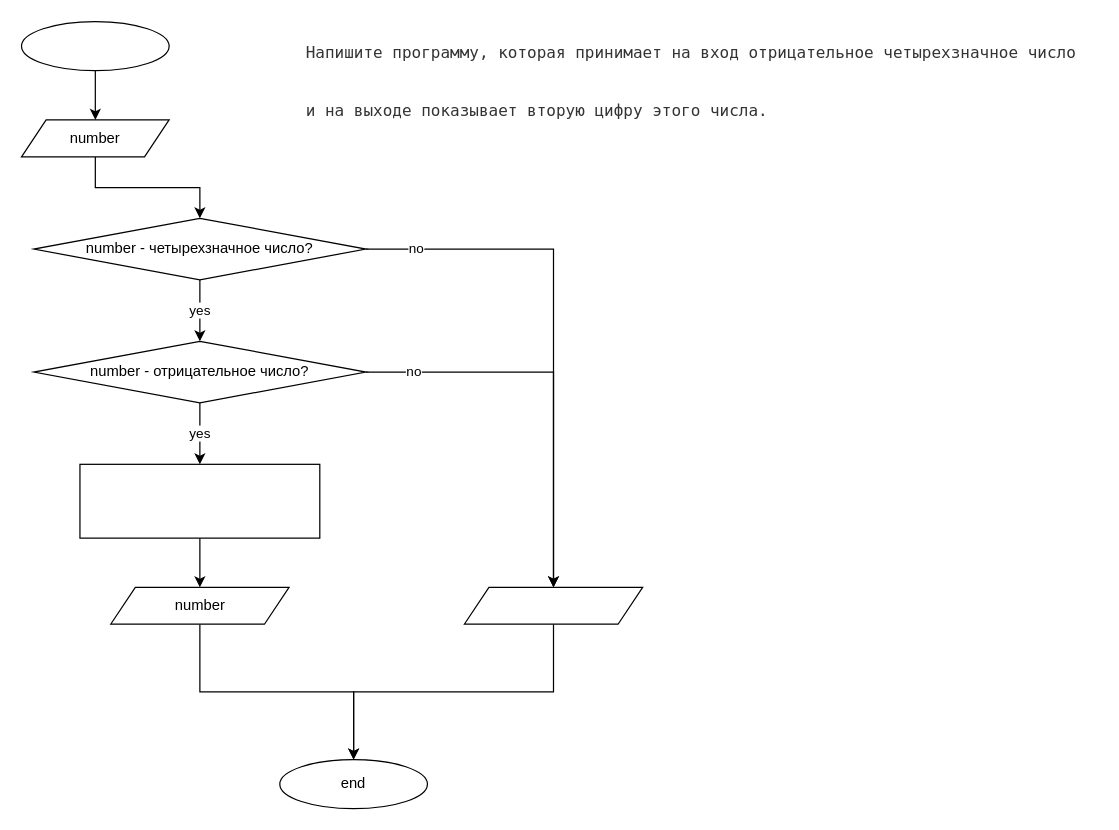
The diagram is 1119 pixels wide and 830 high, and some of its shapes have lost their labels. The shapes that lost their labels are listed below. From the top down, each one's box as (x1, y1, x2, y2) in pixels, then its label:
(20, 20, 169, 71): start
(79, 463, 320, 538): number = number/10 number = number % 10
(463, 586, 643, 624): Число не подходит условию
